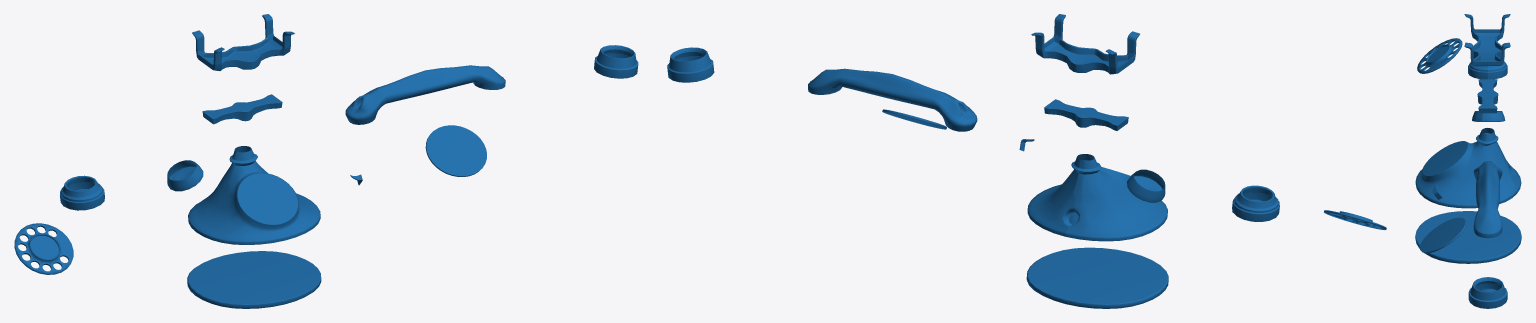
File: tele_7_low.fbx
The picture shows the model from 3 angles, left to right: view 1: azimuth 30°, elevation 25°; view 2: azimuth 150°, elevation 25°; view 3: azimuth 270°, elevation 25°; orthographic projection. The views are drawn at different scales.
Visible parts, largest first — view 1: tele_low; view 2: tele_low; view 3: tele_low.
Part boxes in pixels (x1,y1,x2,y2): tele_low: (14, 14, 638, 308); tele_low: (667, 14, 1386, 308); tele_low: (1415, 14, 1521, 308).
Bounding box in the file's own units: 1.24 × 0.4439 × 0.203.
